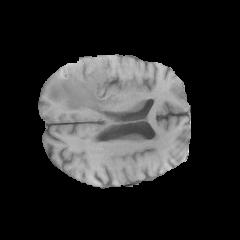glioma: (46, 56, 120, 111)
